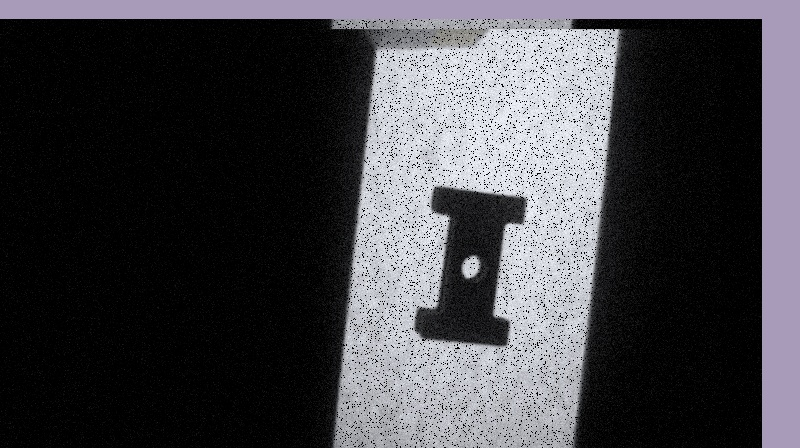O002: (413, 182, 530, 349)
